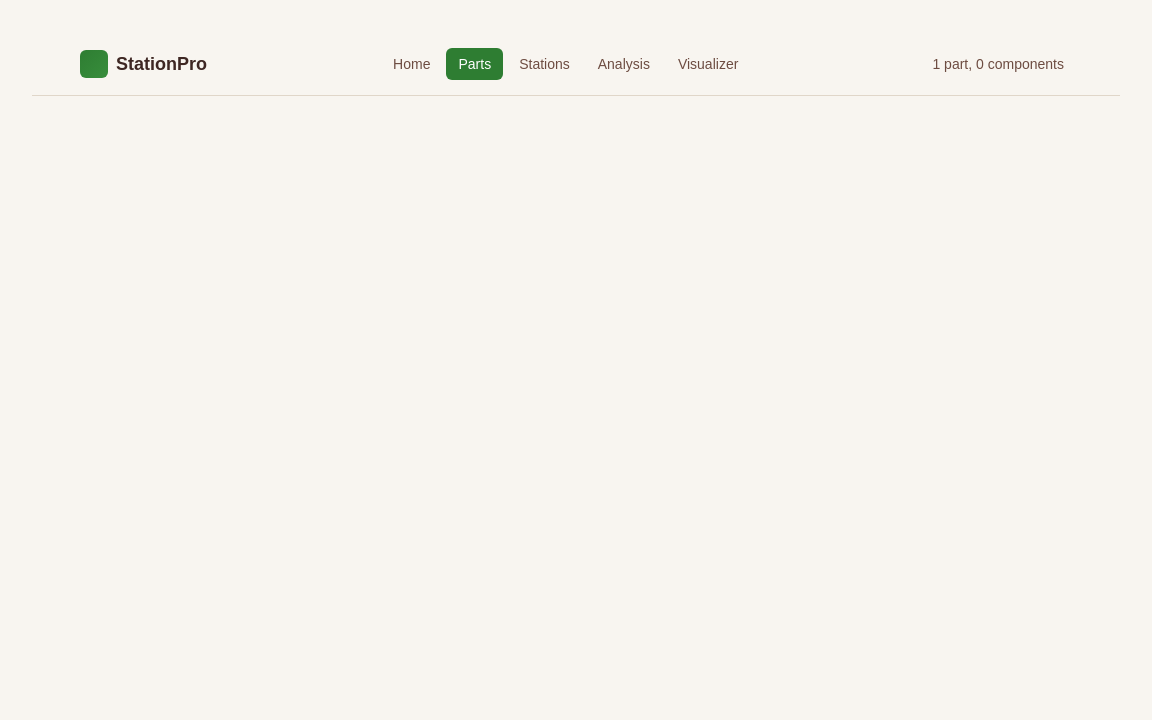
TopNav › AC-3.3.1: Working Set Summary Integration › opens popover and shows parts list on click
This screenshot has width=1152, height=720.
What coordinates should you click on to do the following:
click the button with aria-label "working set"
I would click on:
 (998, 64)
Its box is left=924, top=50, right=1072, bottom=78.
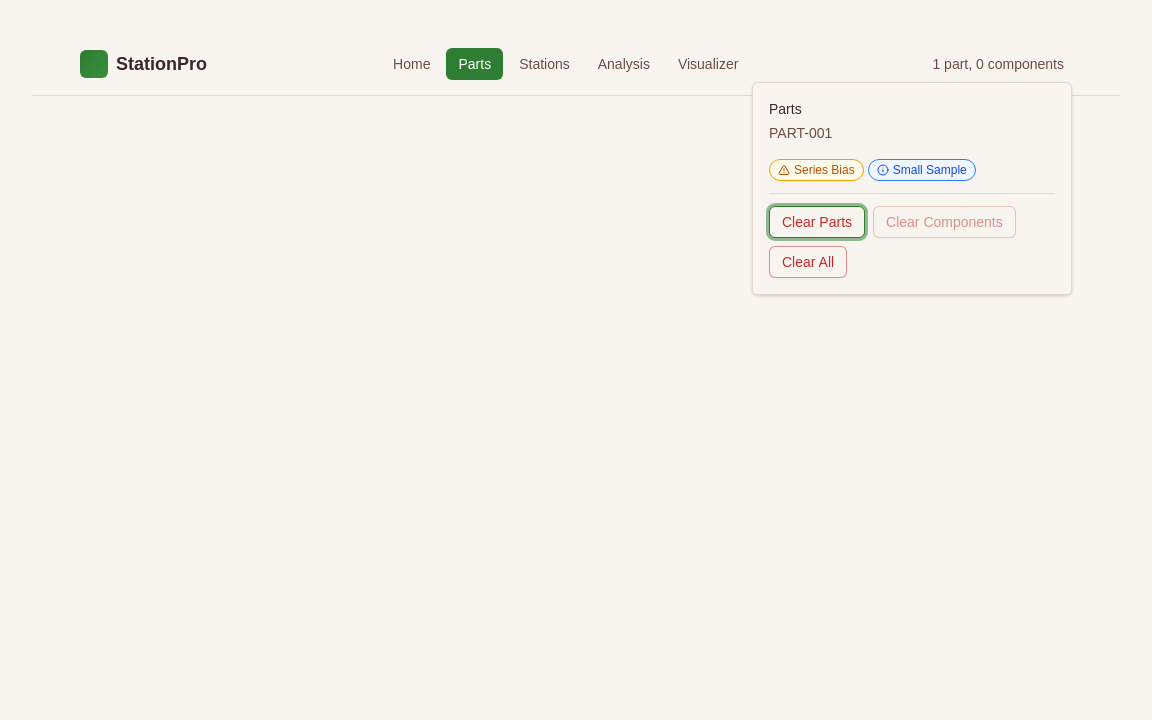
Expected: the list item "PART-001" is shown, left=769, top=125, right=832, bottom=141
